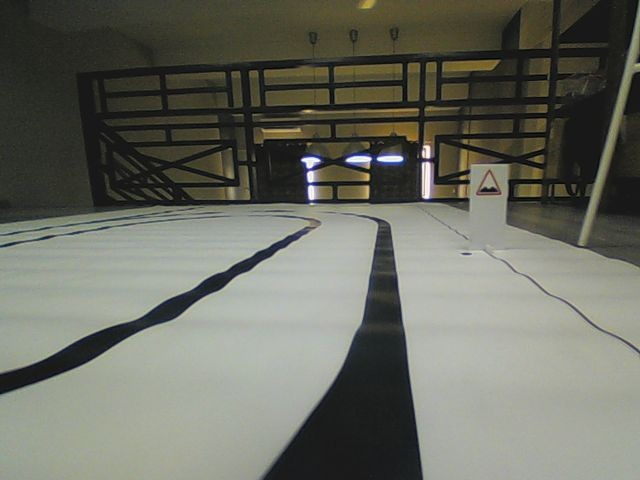Nerov: (475, 169, 503, 197)
